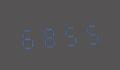eight: (39, 21, 59, 49)
five: (60, 19, 80, 48), (81, 18, 101, 47)
six: (18, 22, 38, 51)
